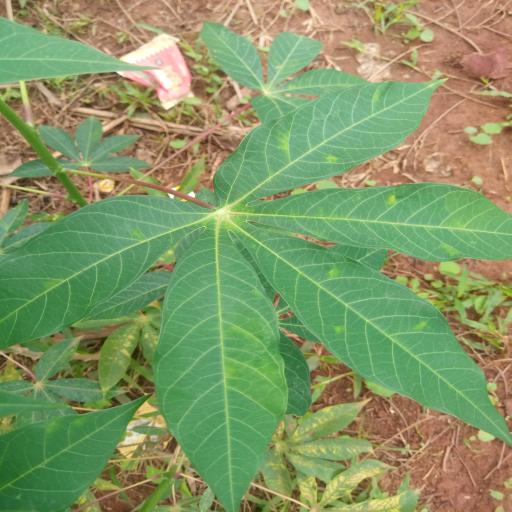Cassava_Healthy: (11, 84, 512, 504)
